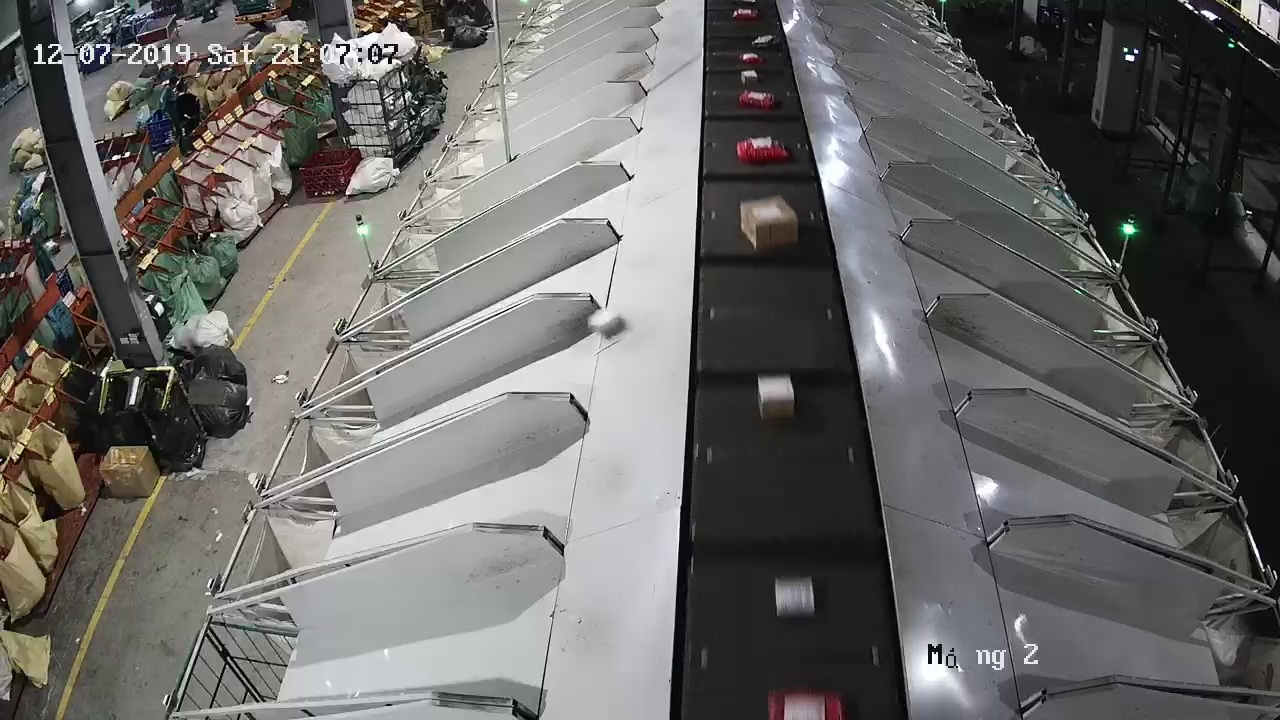parcel: (586, 305, 622, 339)
